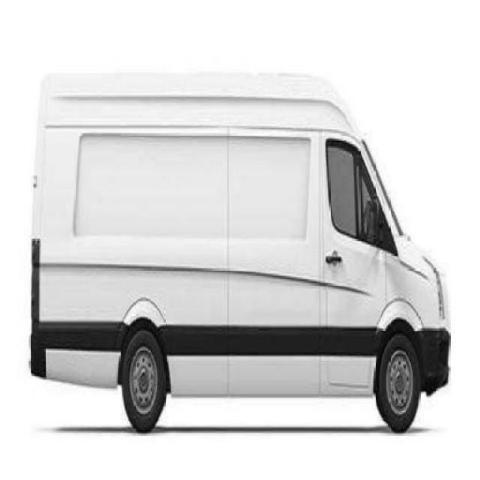van: (34, 75, 445, 433)
